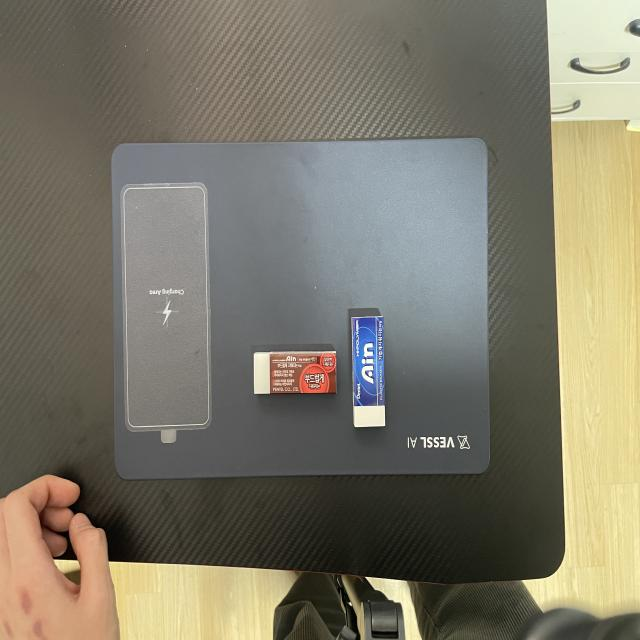blue: (347, 309, 391, 433)
red: (250, 346, 341, 401)
